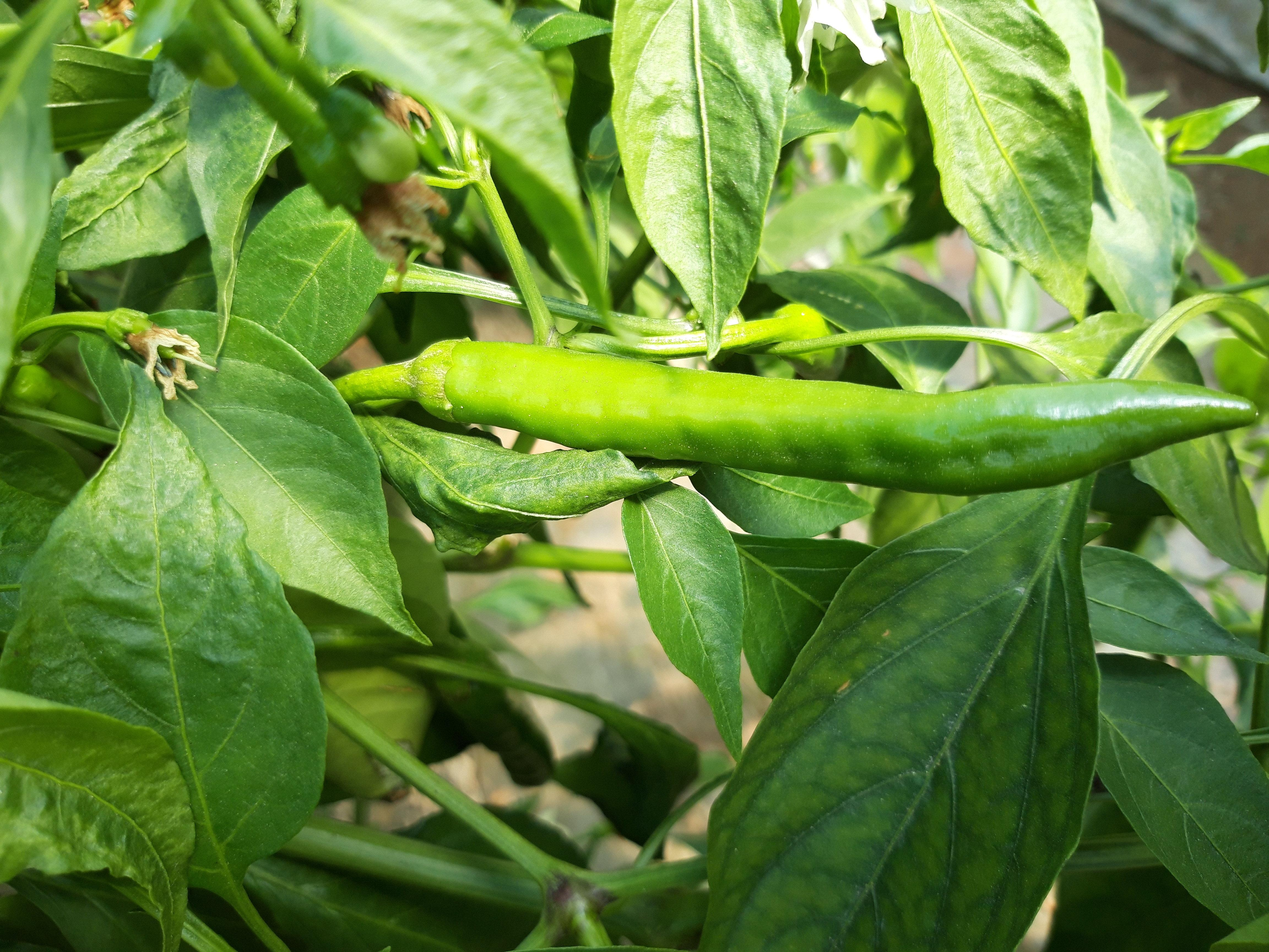Buah Cabai Sehat: (330, 334, 1258, 497)
Daun Cabai Sehat: (686, 464, 1103, 952), (0, 342, 334, 902), (595, 0, 793, 366), (887, 0, 1100, 329)
